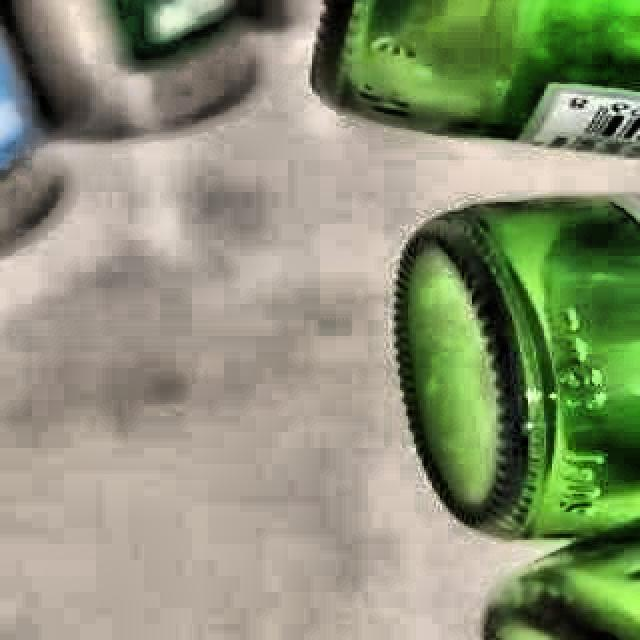glass: (397, 193, 640, 640)
